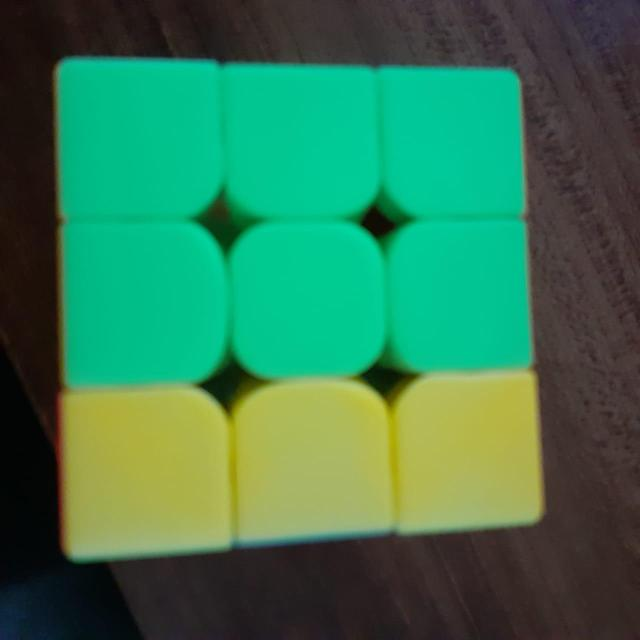Green: (60, 228, 224, 380), (61, 62, 216, 216), (225, 70, 377, 220), (232, 230, 382, 370), (388, 230, 534, 372), (384, 70, 522, 218)
Yellow: (62, 392, 232, 552), (244, 388, 390, 538), (400, 380, 534, 524)
